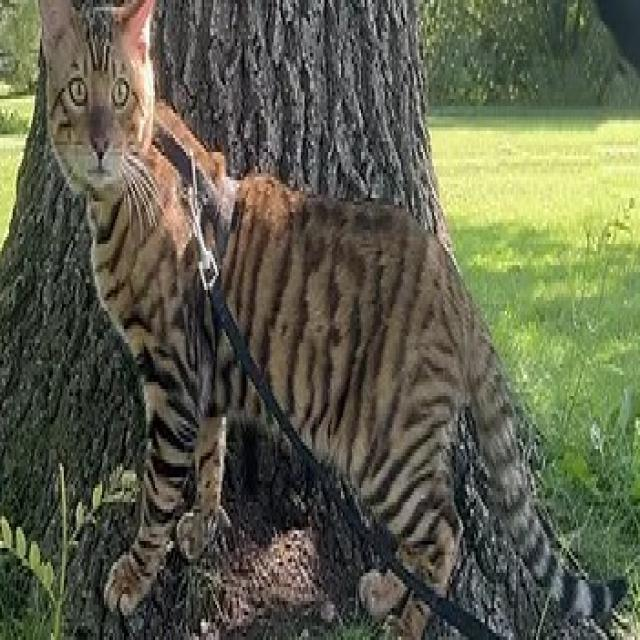Toyger: (33, 0, 629, 640)
